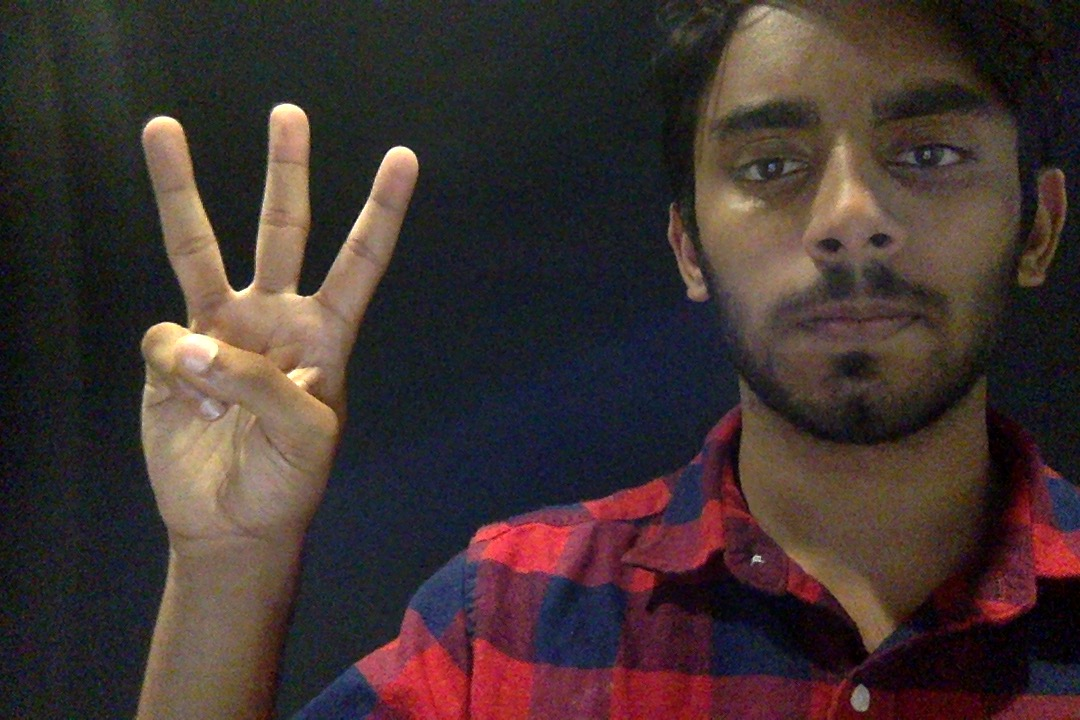w: (107, 88, 429, 620)
